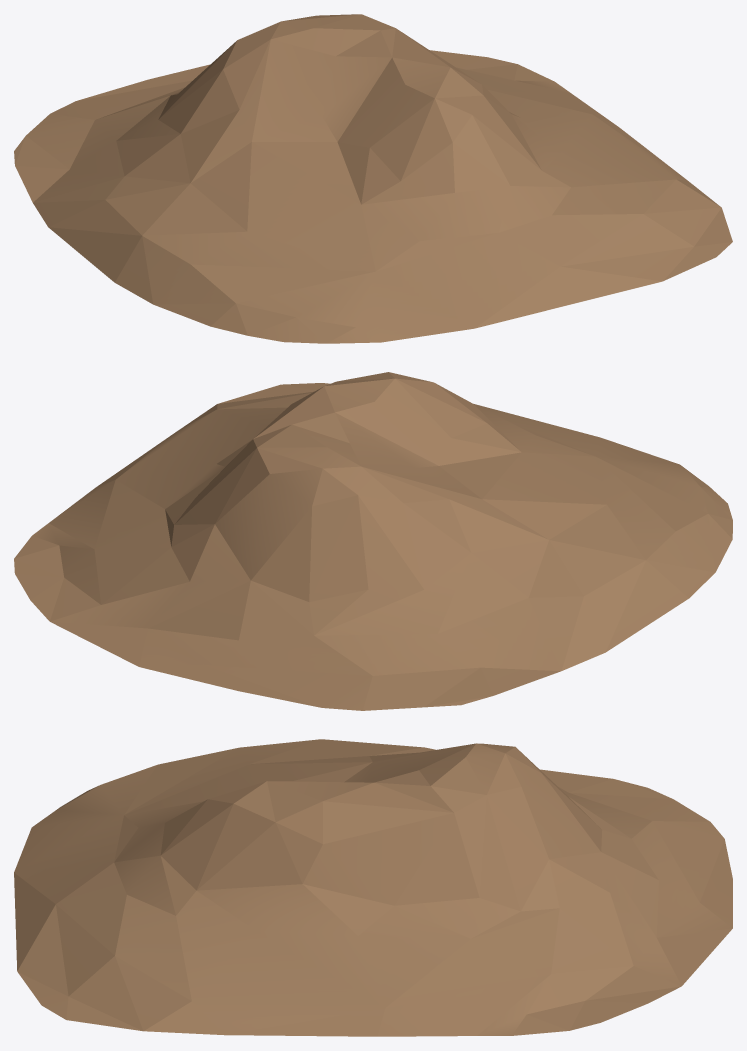
The model's file is Hill_05.fbx.
3 views of the same model, one above another, from view 1: azimuth 30°, elevation 25°; view 2: azimuth 150°, elevation 25°; view 3: azimuth 270°, elevation 25° (orthographic). The views are drawn at different scales.
Parts seen in each view (by area): view 1: Hill_05; view 2: Hill_05; view 3: Hill_05.
Part boxes in pixels (x1=…): Hill_05: x1=14, y1=14, x2=732, y2=343; Hill_05: x1=14, y1=372, x2=732, y2=710; Hill_05: x1=14, y1=739, x2=732, y2=1036.
Bounding box in the file's own units: 5610 × 1336 × 6092.
